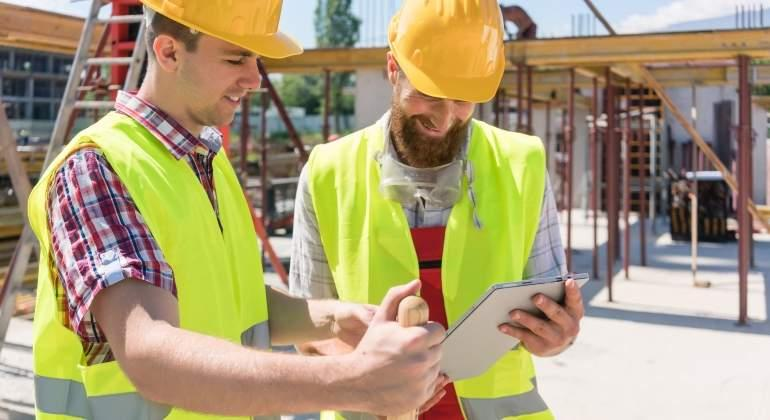hat: (13, 61, 295, 420), (130, 1, 320, 109), (380, 1, 539, 121)
